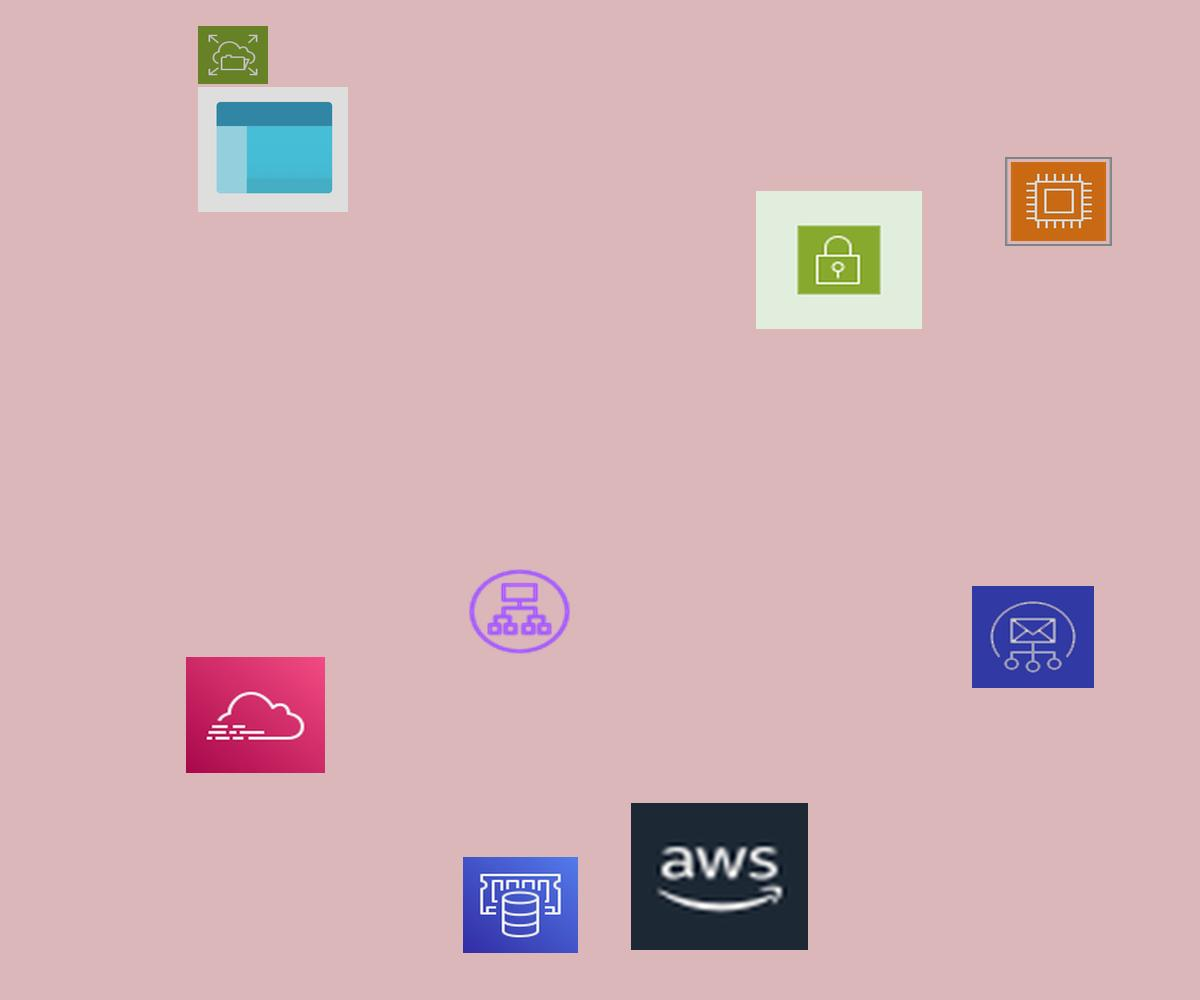AWS-Category_Compute: (1005, 157, 1112, 246)
AWS-Cloud-logo: (631, 803, 808, 950)
AWS-CloudTrail: (186, 657, 325, 773)
AWS-EFS: (198, 26, 268, 84)
AWS-ElastiCache: (463, 857, 578, 953)
AWS-Public-subnet: (756, 191, 922, 329)
AWS-Res_Elastic-Load-Balancing_Application-Load-Balancer: (465, 566, 574, 657)
AWS-Simple-Email-Service: (972, 586, 1094, 688)
Azure_management-portal: (198, 87, 348, 212)
